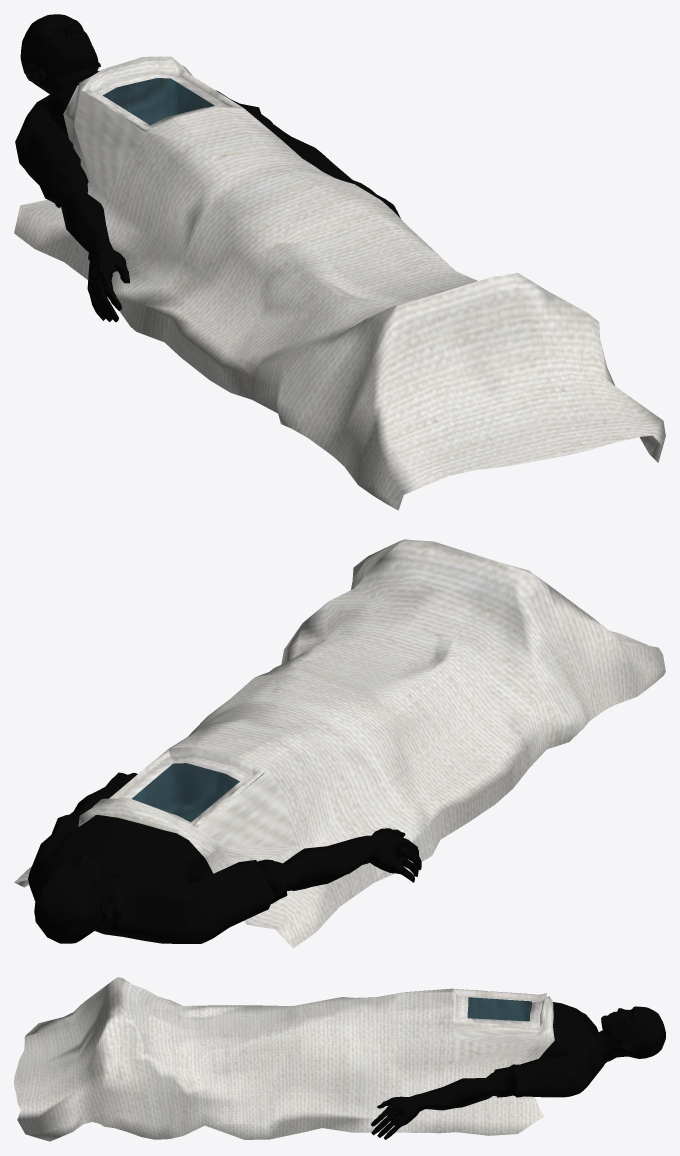
File: patient2.fbx
3 renders of one model, top to bottom at view 1: azimuth 30°, elevation 25°; view 2: azimuth 150°, elevation 25°; view 3: azimuth 270°, elevation 25°, orthographic. The views are drawn at different scales.
Parts seen in each view (by area): view 1: Patient, Patient.001; view 2: Patient, Patient.001; view 3: Patient, Patient.001.
Boxes of the visible parts, bbox=[...] form: Patient: bbox=[14, 14, 665, 510]; Patient.001: bbox=[93, 73, 228, 127]; Patient: bbox=[14, 539, 665, 948]; Patient.001: bbox=[119, 756, 252, 825]; Patient: bbox=[14, 977, 665, 1141]; Patient.001: bbox=[457, 995, 542, 1025].
Bounding box in the file's own units: 71.62 × 36.26 × 202.
